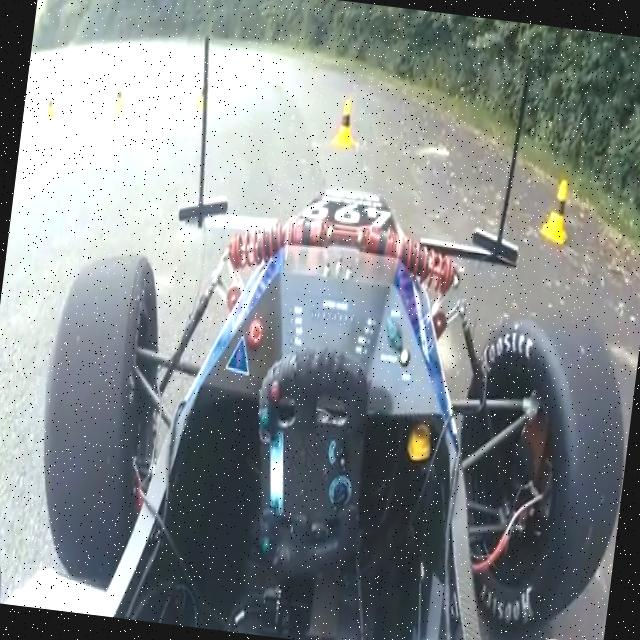yellow_cone: (534, 170, 576, 251), (328, 92, 364, 156), (106, 80, 130, 126), (195, 80, 212, 114)
